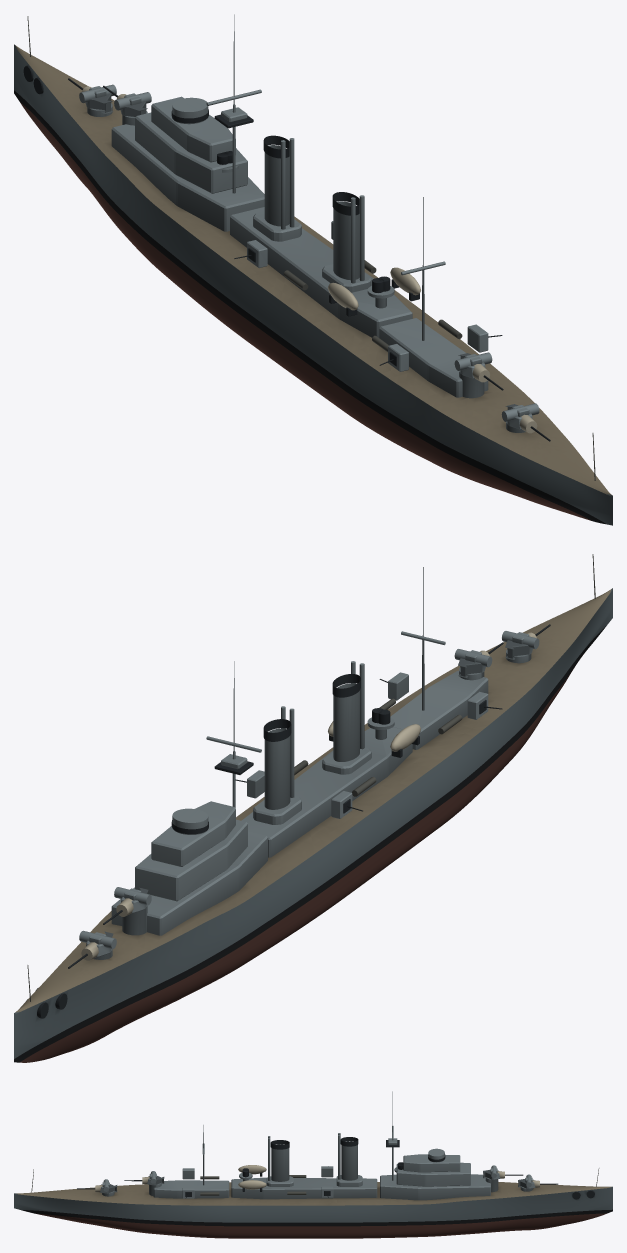
Rendered from uss-farenholt.glb.
3 renders of one model, top to bottom at view 1: azimuth 30°, elevation 25°; view 2: azimuth 150°, elevation 25°; view 3: azimuth 270°, elevation 25°, orthographic. The views are drawn at different scales.
Visible parts, largest first — view 1: uss-farenholt; view 2: uss-farenholt; view 3: uss-farenholt.
Boxes of the visible parts, x1,y1,x2,y2 form: uss-farenholt: [14, 14, 612, 525]; uss-farenholt: [14, 554, 612, 1062]; uss-farenholt: [14, 1091, 612, 1238].
Bounding box in the file's own units: 13.39 × 27.55 × 108.
